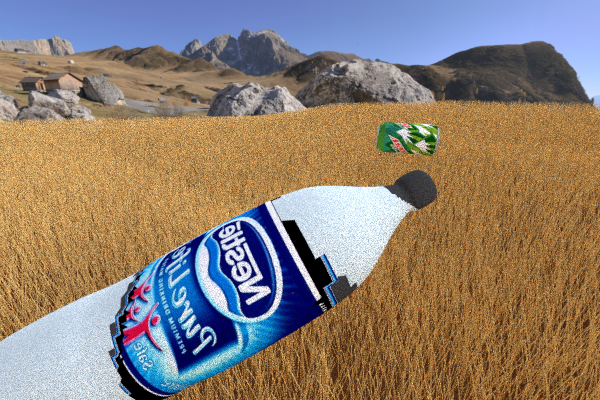Plastic Bottle: (0, 169, 437, 400), (375, 122, 439, 155)
